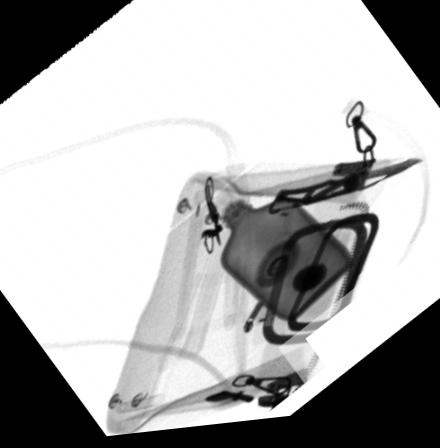Knife: (266, 167, 423, 221)
Scissors: (200, 180, 225, 258)
